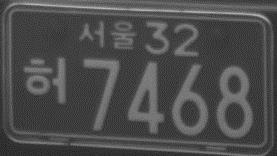2: (170, 22, 201, 60)
3: (144, 18, 171, 57)
4: (126, 60, 165, 135)
6: (169, 62, 210, 138)
7: (80, 57, 122, 131)
8: (215, 65, 254, 141)
서울_O: (79, 18, 136, 51)
허: (23, 54, 68, 107)
